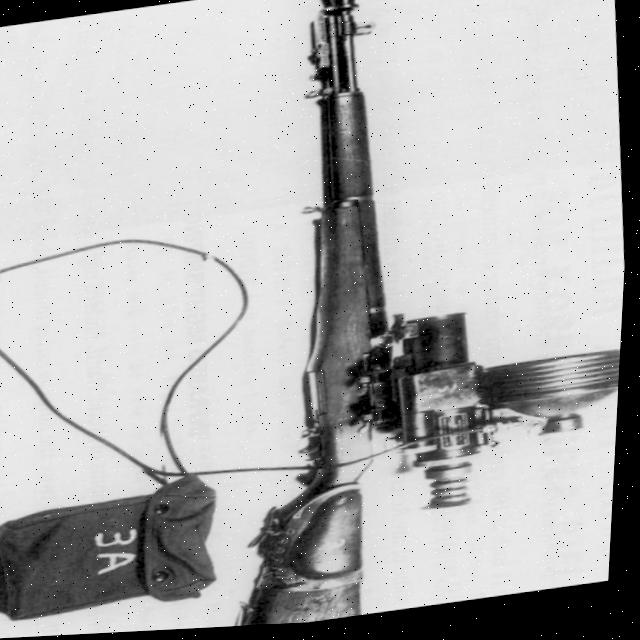firearm: (181, 0, 640, 632)
